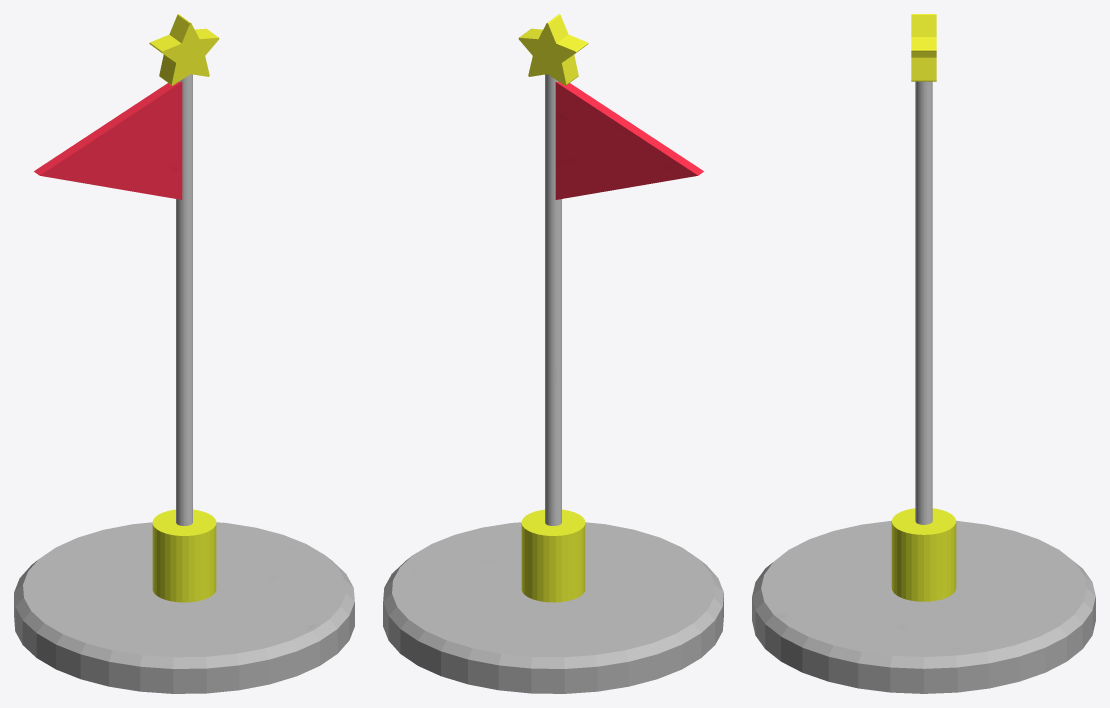
Rendered from Flag.obj.
3 views of the same model, side by side, from view 1: azimuth 30°, elevation 25°; view 2: azimuth 150°, elevation 25°; view 3: azimuth 270°, elevation 25° (orthographic).
Visible parts, largest first — view 1: Flag; view 2: Flag; view 3: Flag.
Boxes of the visible parts, x1,y1,x2,y2 form: Flag: (14, 14, 354, 693); Flag: (383, 14, 723, 693); Flag: (752, 14, 1095, 693).
Size of the model in its own units: 2 by 3.9 by 2.
1 material, 1 textured.
